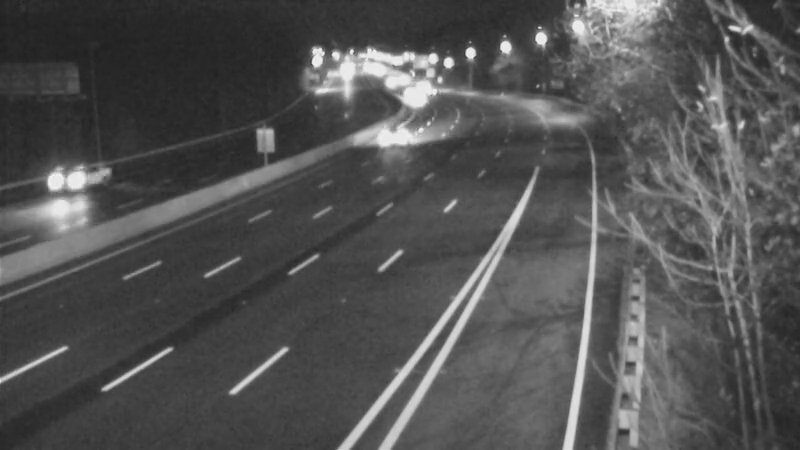vehicle: (27, 142, 107, 222), (389, 73, 439, 123), (369, 106, 419, 156)
